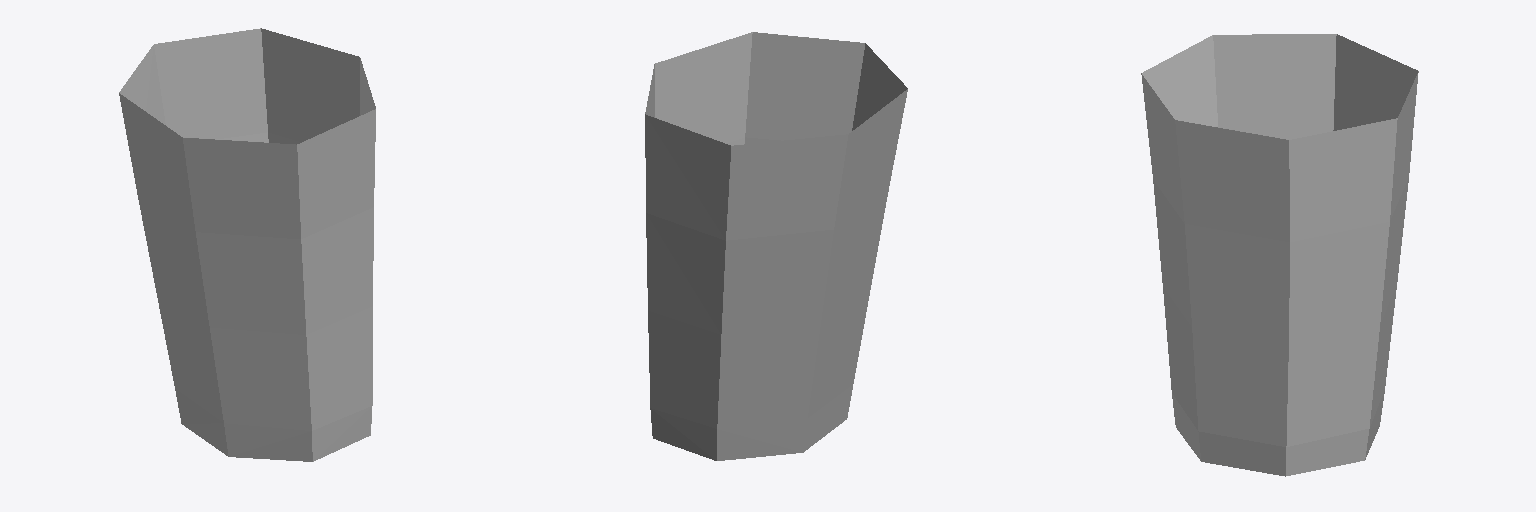
Rendered from LeftLeg.obj.
3 views of the same model, side by side, from view 1: azimuth 30°, elevation 25°; view 2: azimuth 150°, elevation 25°; view 3: azimuth 270°, elevation 25° (orthographic).
Parts seen in each view (by area): view 1: 左足; view 2: 左足; view 3: 左足.
Boxes of the visible parts, x1,y1,x2,y2 form: 左足: [119, 28, 375, 461]; 左足: [645, 32, 907, 460]; 左足: [1141, 34, 1418, 476].
Size of the model in its own units: 0.0895 by 0.1329 by 0.0988.